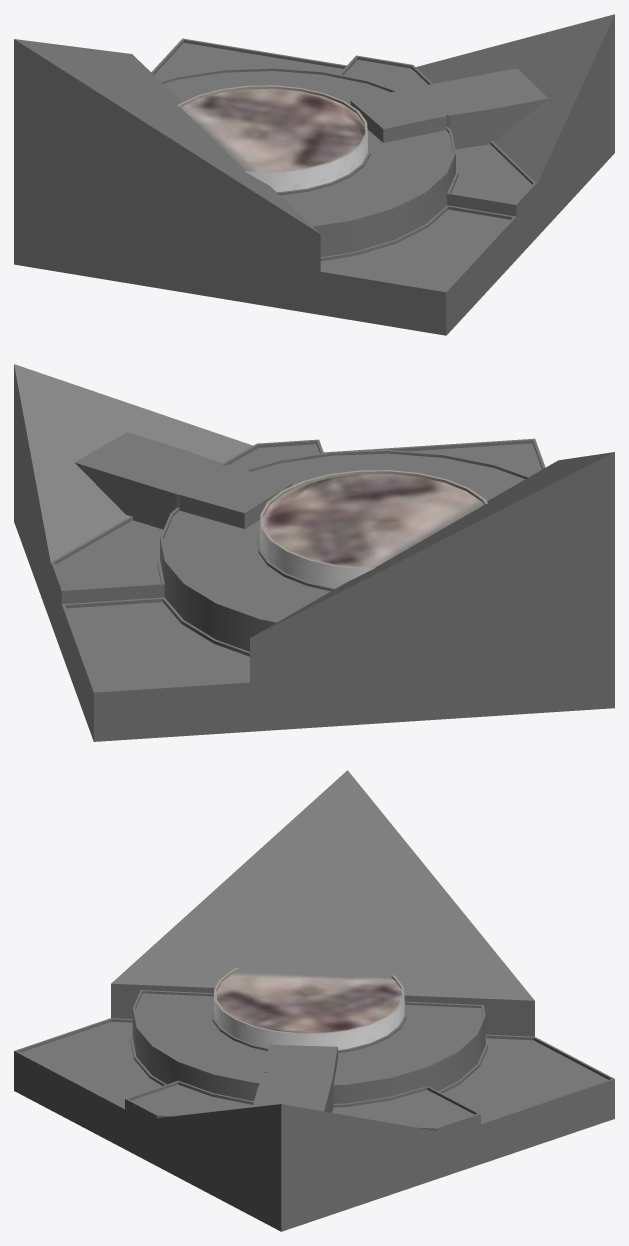
Rendered from ShWater.gltf.
The picture shows the model from 3 angles, top to bottom: view 1: azimuth 30°, elevation 25°; view 2: azimuth 150°, elevation 25°; view 3: azimuth 270°, elevation 25°; orthographic projection. The views are drawn at different scales.
Parts seen in each view (by area): view 1: root; view 2: root; view 3: root.
Boxes of the visible parts, x1=… form: root: x1=14, y1=14, x2=614, y2=335; root: x1=14, y1=364, x2=614, y2=741; root: x1=14, y1=770, x2=614, y2=1231.
Bounding box in the file's own units: 102 × 39 × 102.
Materials: 4 (3 with a texture image).
